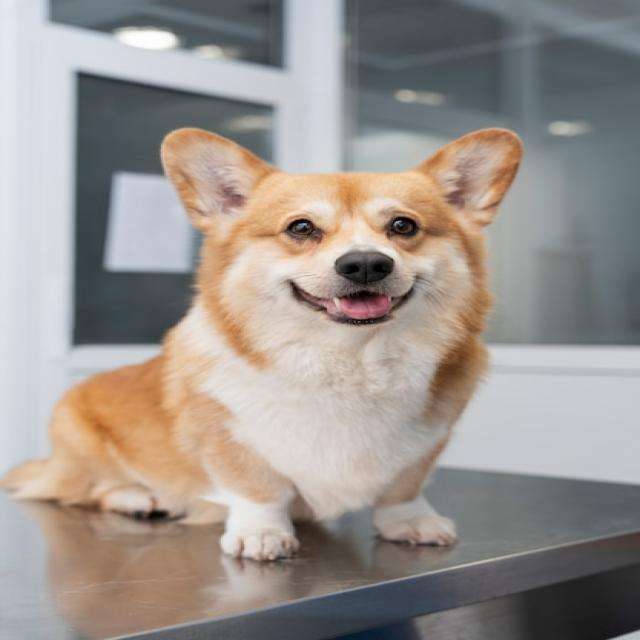Dog: (0, 126, 524, 564)
